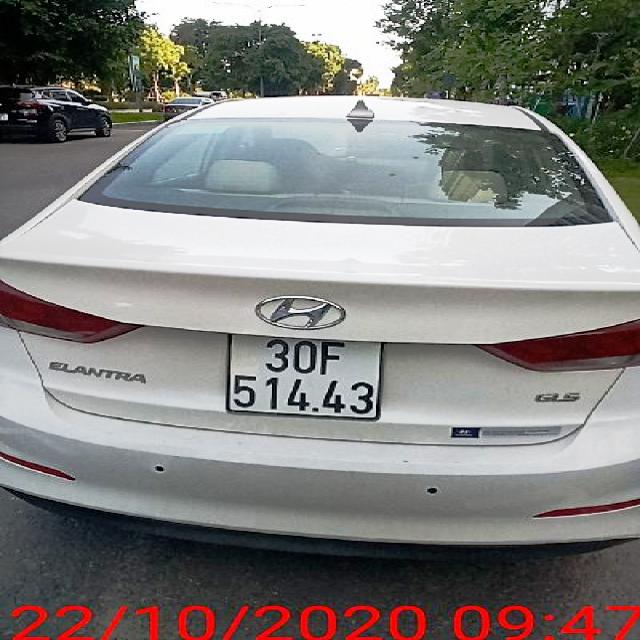license_plate: (229, 336, 385, 419)
